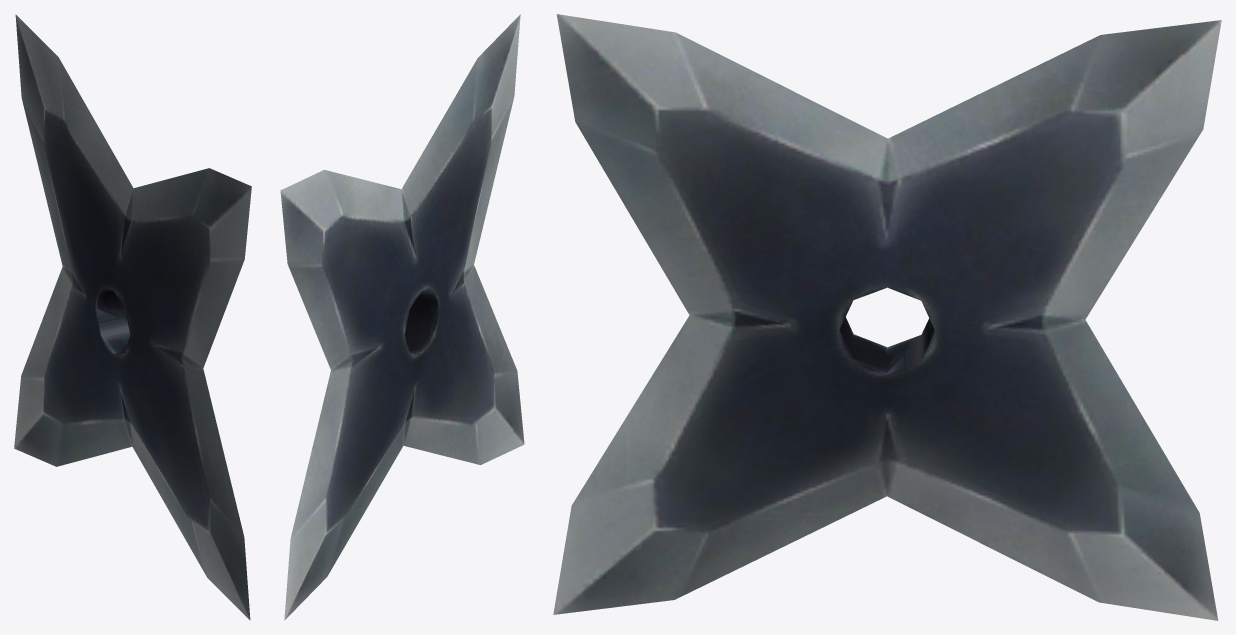
The picture shows the model from 3 angles, left to right: view 1: azimuth 30°, elevation 25°; view 2: azimuth 150°, elevation 25°; view 3: azimuth 270°, elevation 25°; orthographic projection. The views are drawn at different scales.
Visible parts, largest first — view 1: sm_0; view 2: sm_0; view 3: sm_0.
Part boxes in pixels (<box>): sm_0: <box>14,14,251,620</box>; sm_0: <box>280,14,524,620</box>; sm_0: <box>553,14,1221,620</box>.
Bounding box in the file's own units: 13.52 × 140 × 140.
1 material, 1 textured.
